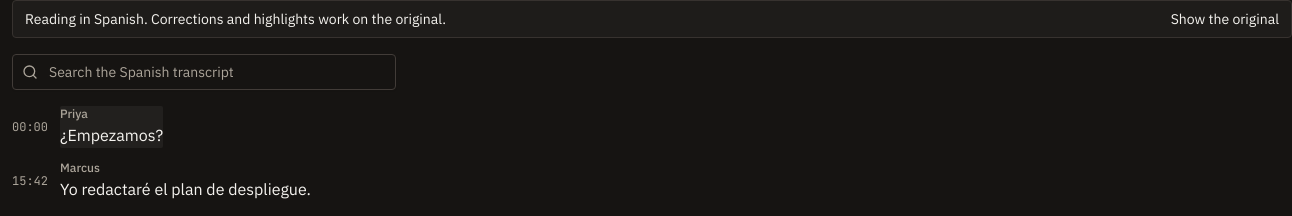
Test: TranslatedTranscript › searches the words on screen, not the ones underneath
Type "despliegue" into the field named "Search the translated transcript".
click(204, 72); type("despliegue")  # box [12,54,396,90]
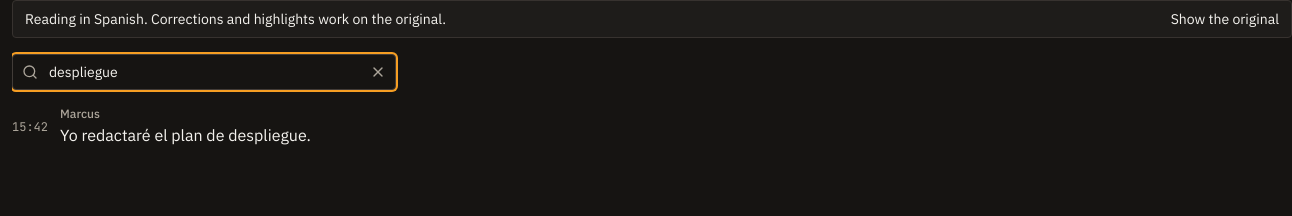
expect the text "Yo redactaré el plan de despliegue." is shown: met, box [60,122,311,148]
expect the text "¿Empezamos?" is gone: met
